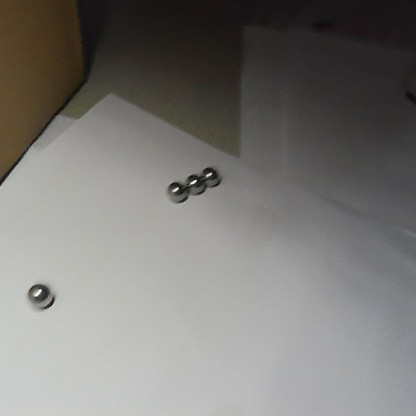ironball: (25, 279, 53, 309), (182, 168, 207, 195), (196, 163, 222, 186), (167, 179, 187, 207)
